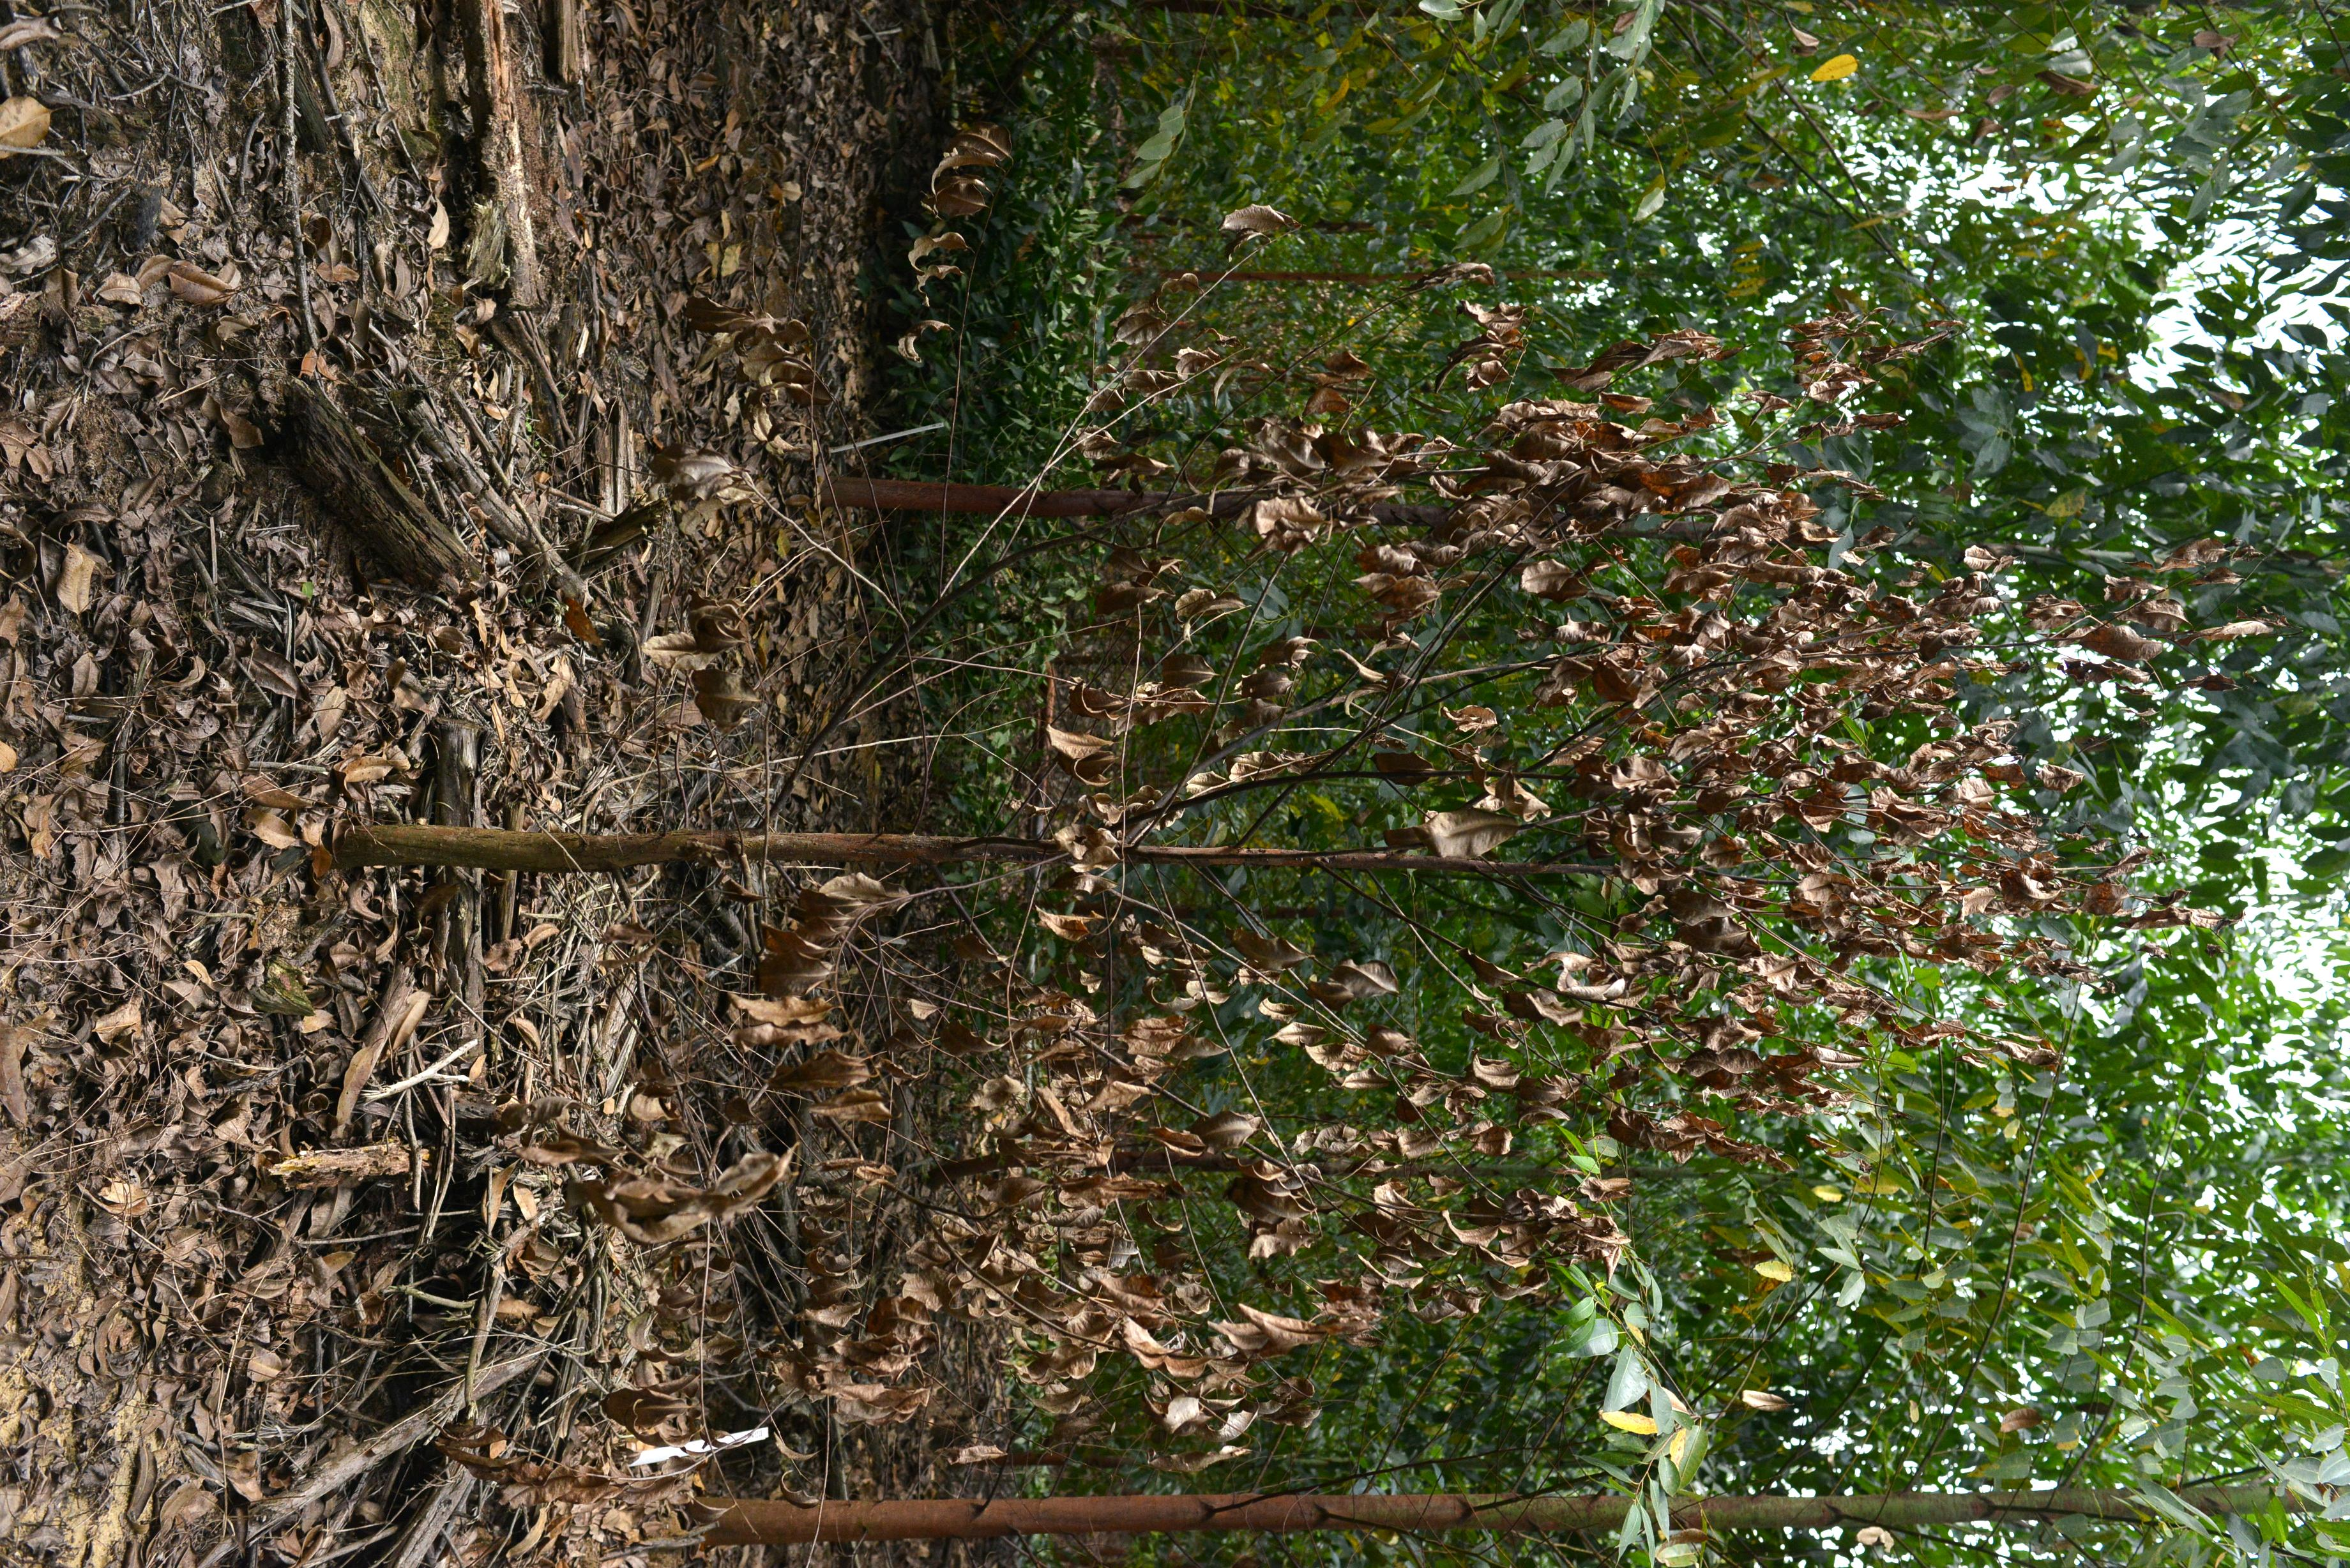Wither Tree Parts: (325, 269, 2247, 1452)
